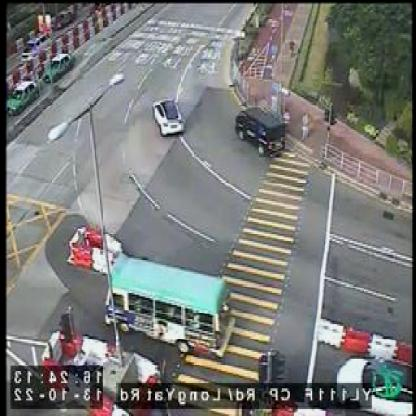Car: (337, 350, 414, 416), (235, 107, 288, 160), (6, 77, 41, 116), (154, 96, 184, 135), (42, 50, 74, 86)
Minibus: (101, 258, 237, 360)
